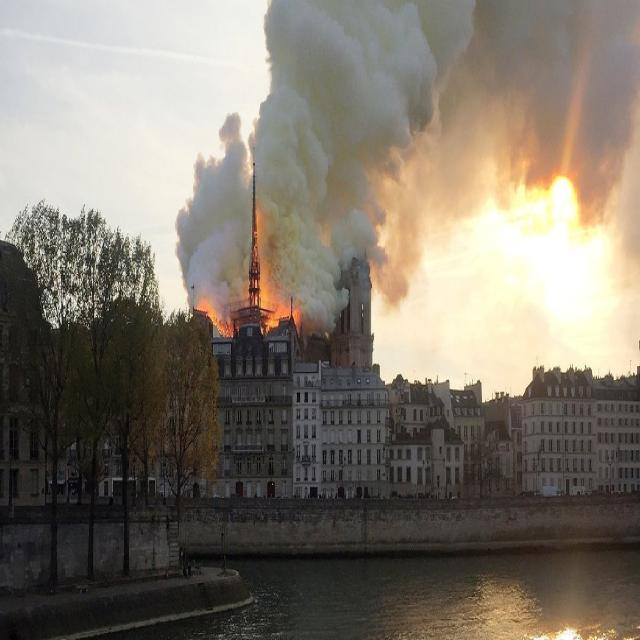Fire: (244, 266, 302, 332), (194, 302, 232, 338), (254, 206, 260, 242)
Smoke: (175, 0, 478, 333)
